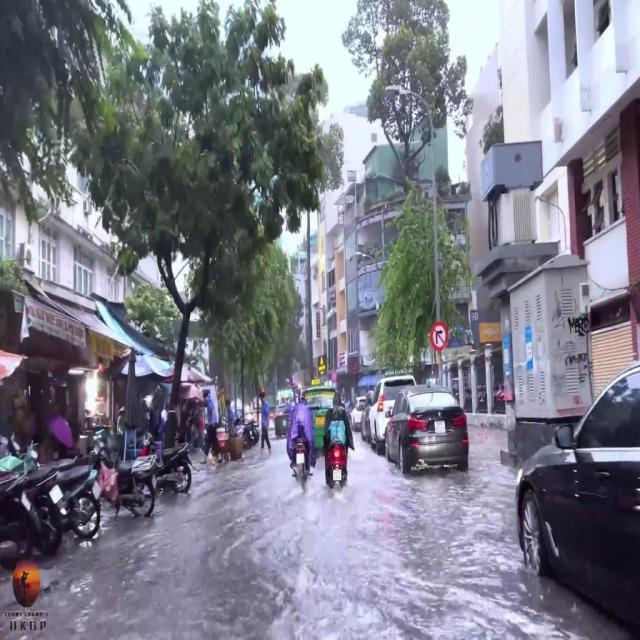123b-cam-re-phai: (430, 321, 448, 351)
